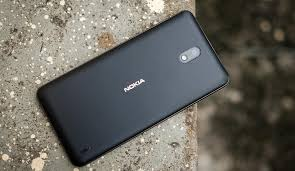nokia: (31, 9, 238, 166)
